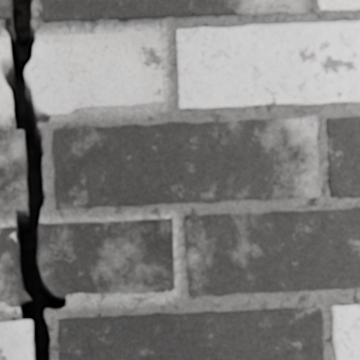brick: (53, 116, 319, 209), (176, 22, 359, 109), (183, 207, 359, 295), (57, 308, 322, 359), (42, 0, 304, 23), (325, 117, 359, 197), (0, 131, 28, 212), (331, 304, 359, 359), (0, 319, 33, 359), (316, 0, 359, 11), (0, 0, 11, 24)
broken_brick: (24, 32, 162, 115), (37, 219, 173, 297), (0, 227, 29, 306), (0, 38, 12, 120)
crack: (1, 0, 66, 359)
